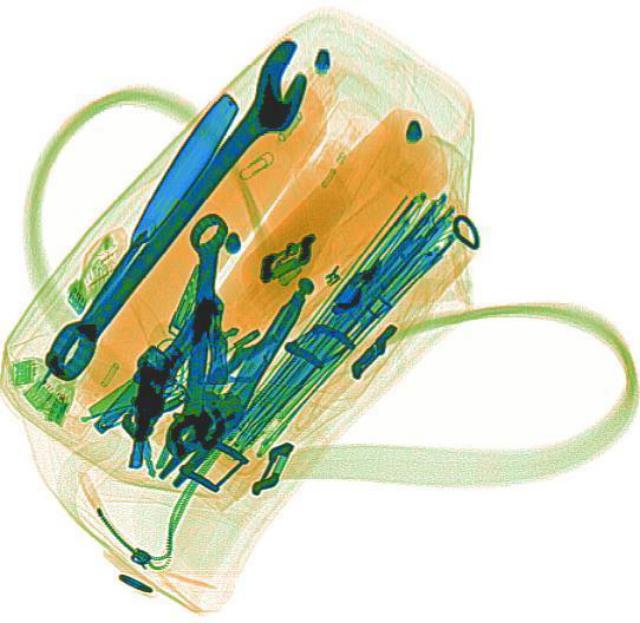Gun: (118, 286, 222, 473)
Knife: (16, 88, 246, 393)
Wrench: (26, 34, 334, 389), (160, 210, 232, 457)
